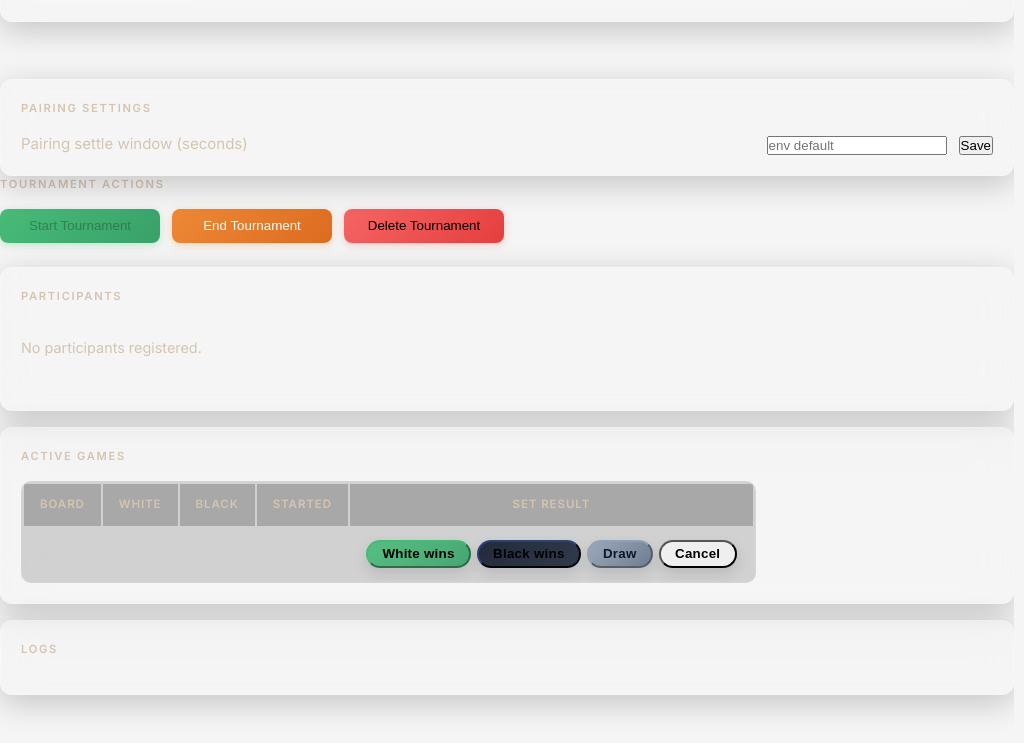
Test: management page keeps the result dialog open when saving fails
(page scrolled)
Click the button "White wins".
click(419, 554)  # box [366,540,471,568]
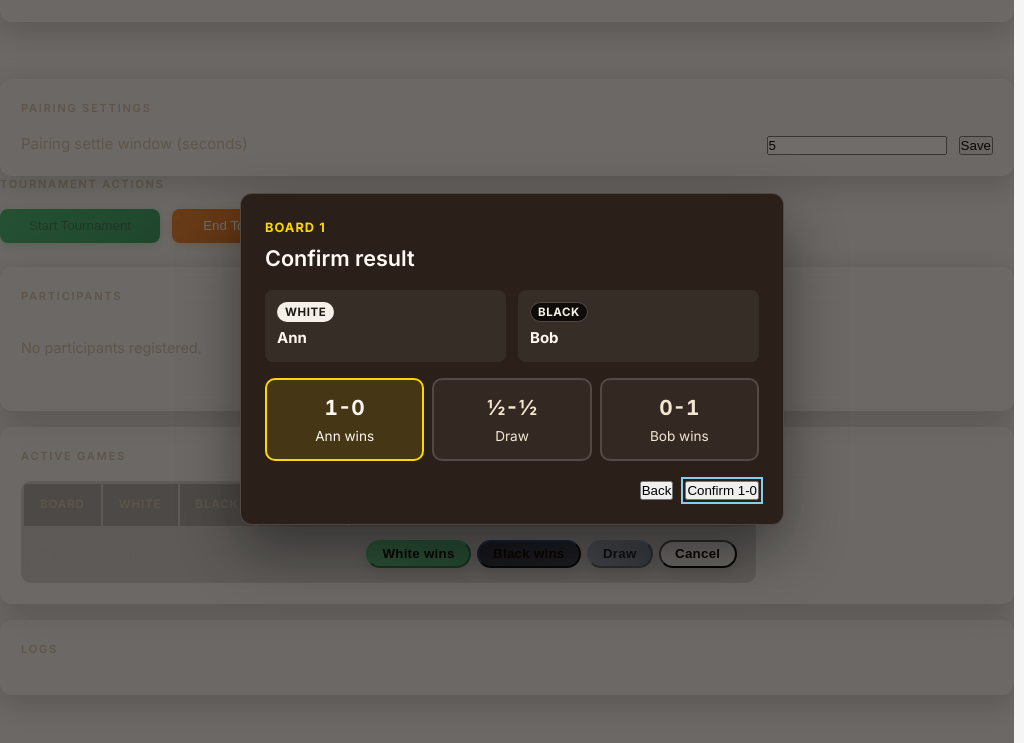
Click the button "Confirm 1-0".
click(722, 490)  # box [685,480,759,500]
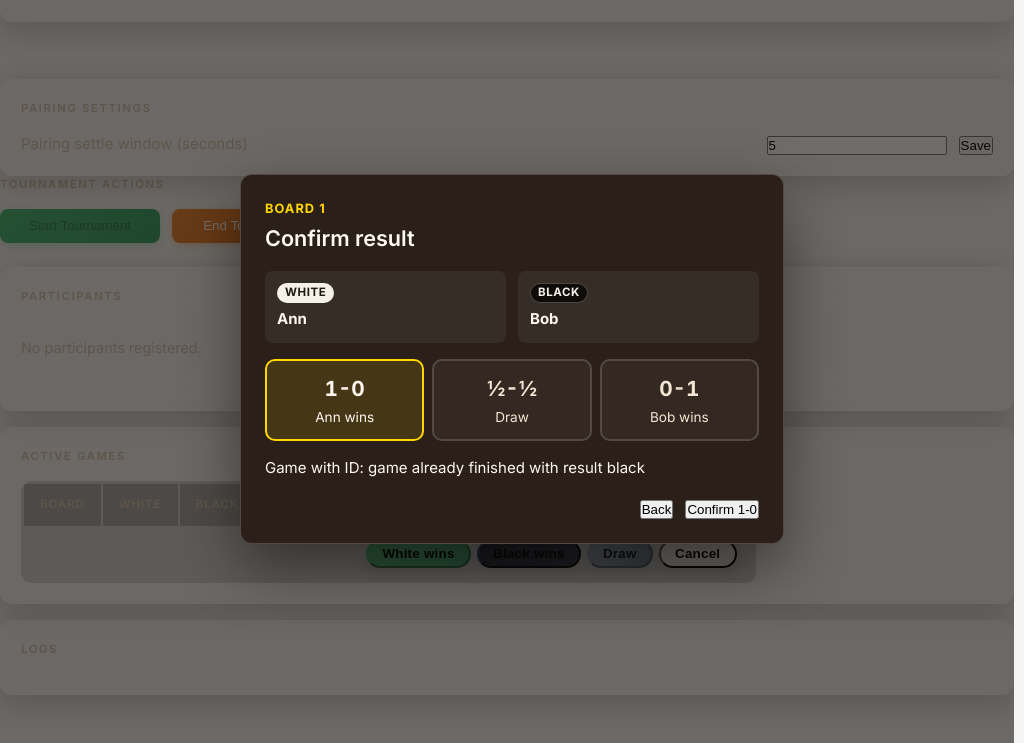
Now the dialog "Confirm result" is shown, box [240,174,784,544]
Now the message shows "already finished with result black", box [265,458,645,477]
